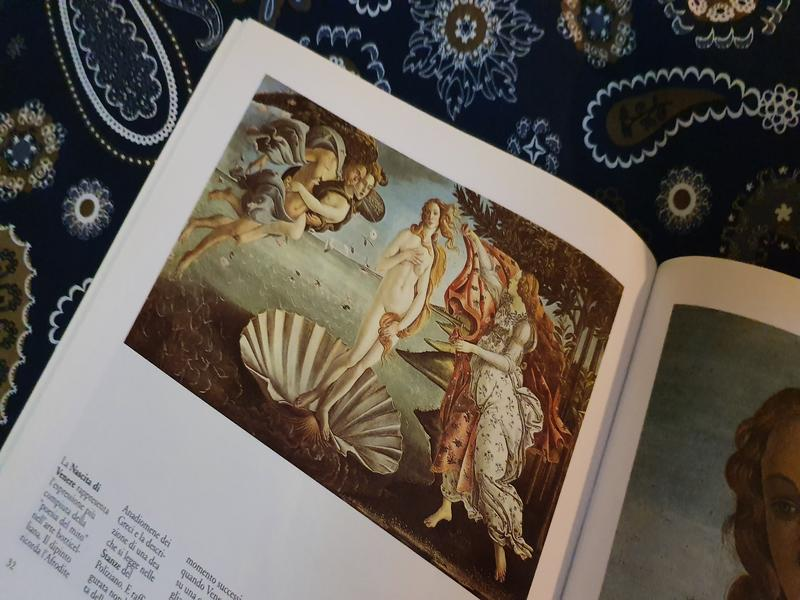Venere: (125, 74, 630, 600)
